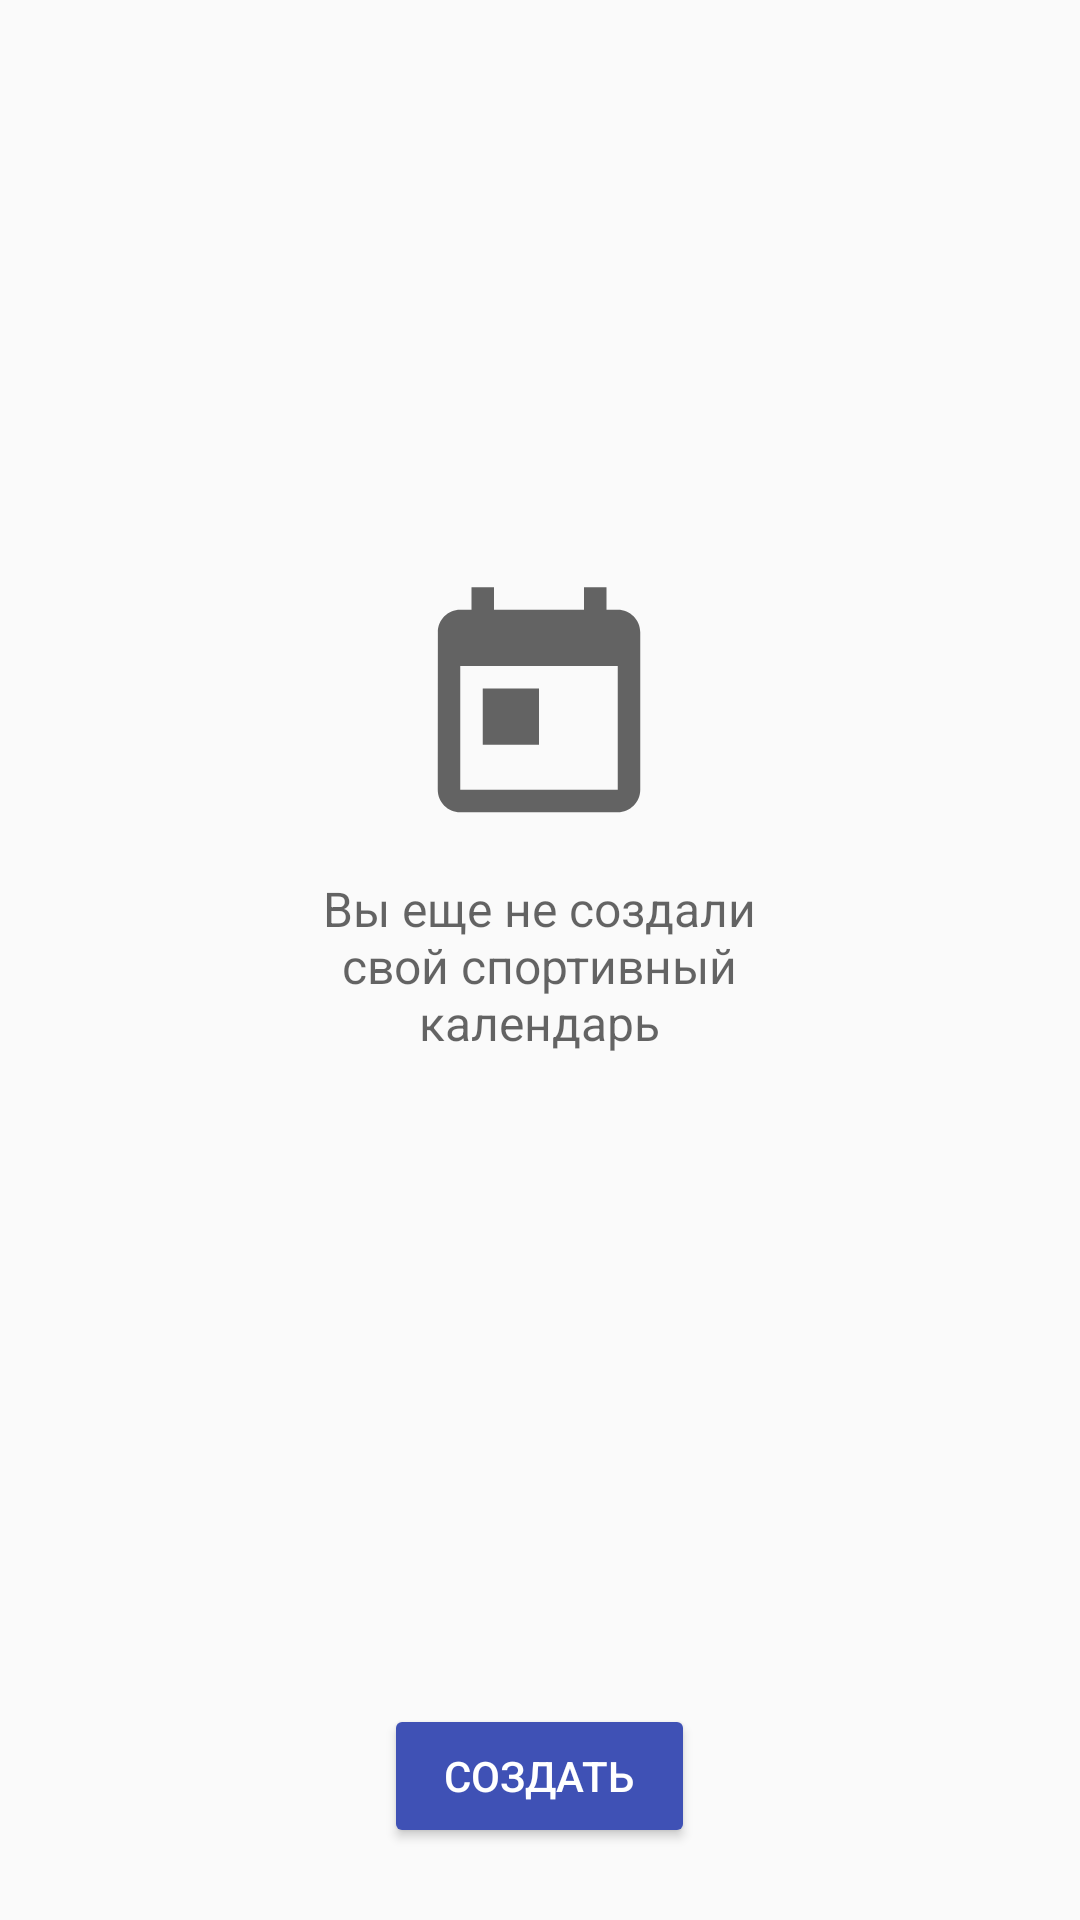

Icon bounding boxes for this 1080 x 1920 phone screenshot, format (x1, y1, x2, y2):
today: (437, 587, 641, 813)
